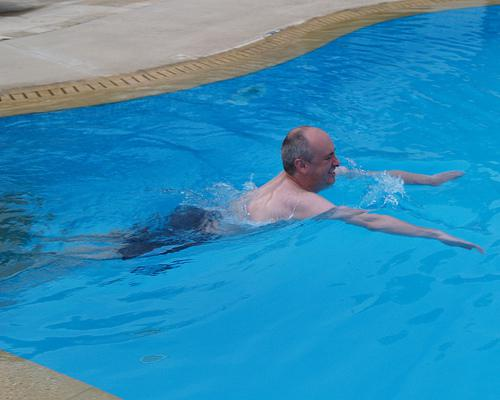human: (168, 127, 478, 252)
